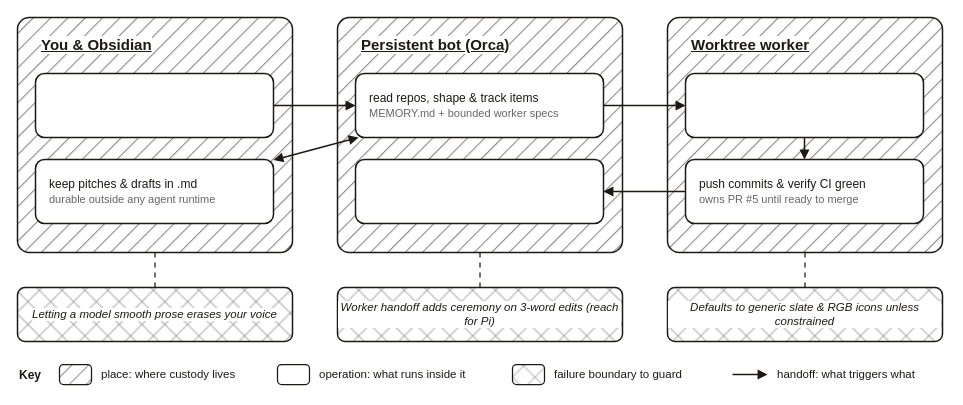
Image size: 963x405. Some labels were removed from this diagram. The shapes that lost their labels are listed below. From the top down, each one's box as (x1, y1, x2, y2) in pixels, then its label:
(34, 72, 274, 138): set appetite, problem & taste Gruvbox + Warm Paper, scope cuts
(684, 72, 924, 138): edit repo, build & security audit isolated child git worktree
(354, 158, 604, 224): run preview, mockups & PR watch localhost:5173 + event wake on #5
